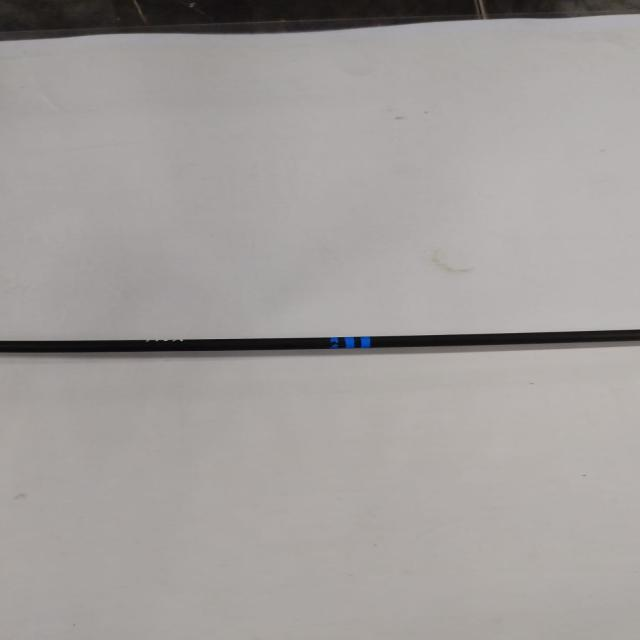blue: (329, 336, 371, 349)
